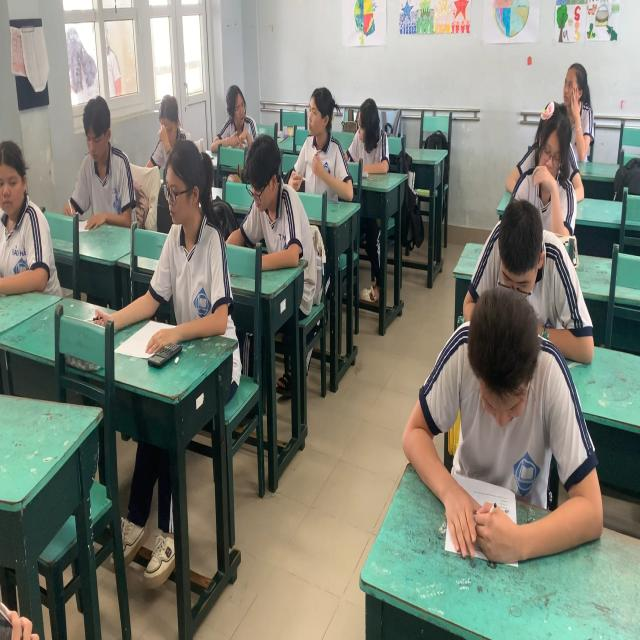cheating: (0, 126, 62, 308), (350, 87, 396, 191), (212, 67, 256, 153)
not_cheating: (404, 280, 587, 586), (56, 87, 141, 246), (151, 156, 227, 333), (234, 139, 304, 250), (527, 105, 575, 240), (303, 84, 351, 208), (556, 56, 594, 170), (155, 80, 194, 160)
